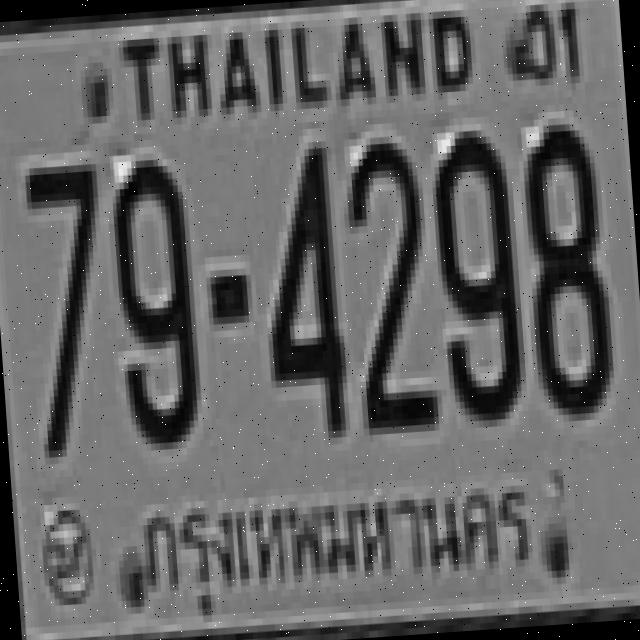2: (338, 132, 434, 432)
4: (254, 138, 345, 432)
7: (20, 158, 110, 452), (19, 157, 106, 390)
8: (515, 116, 611, 410)
9: (427, 125, 523, 419), (104, 151, 200, 445)
Bangkok: (130, 454, 551, 632)
